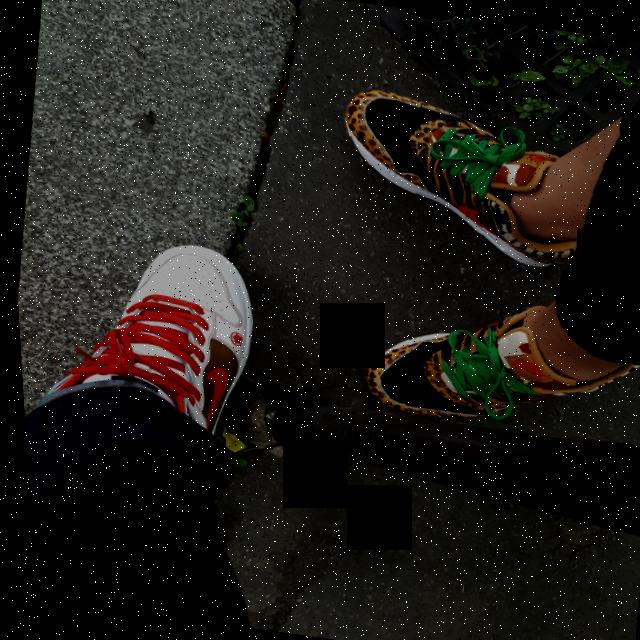shoe: (8, 171, 330, 533), (293, 64, 640, 286), (317, 251, 640, 467)
